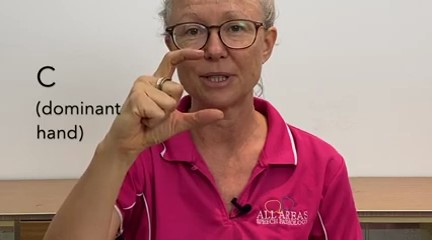C: (128, 42, 230, 144)
